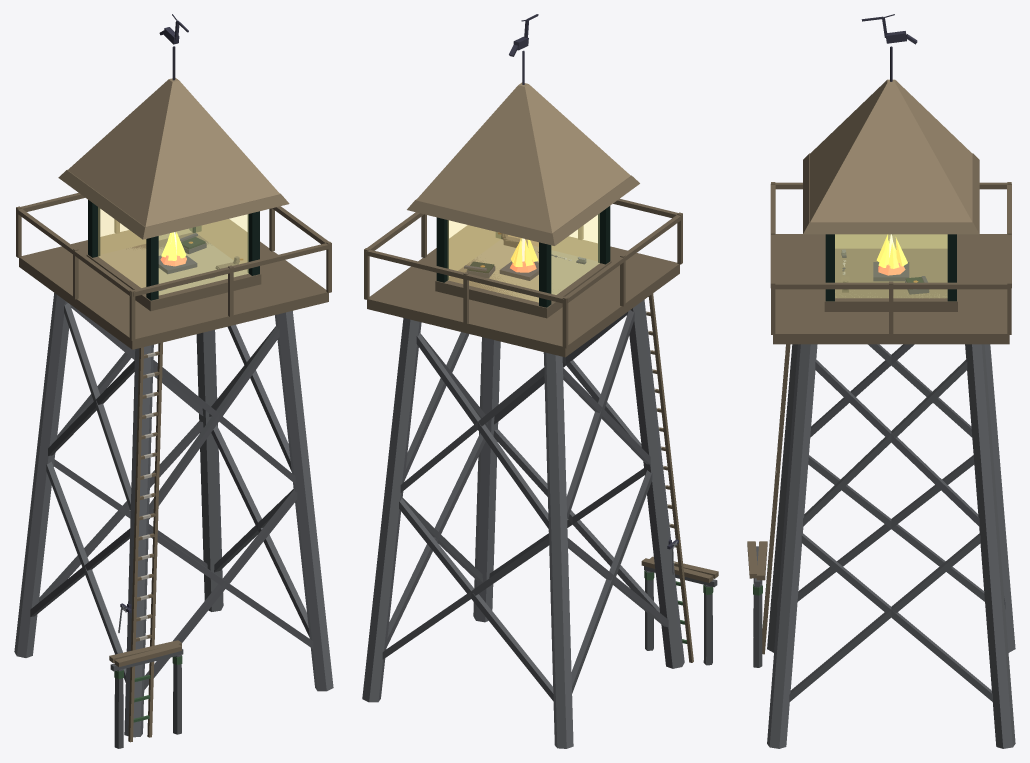
File: heron_light_near_lit.glb
3 renders of one model, left to right at view 1: azimuth 30°, elevation 25°; view 2: azimuth 150°, elevation 25°; view 3: azimuth 270°, elevation 25°, orthographic. The views are drawn at different scales.
Parts seen in each view (by area): view 1: driftwood_d40, silverfog_d45, silverfog_d55, driftwood_d20, kindle_glow_horn30, driftwood_d35, pine_d60, ink_l15, bone_d22; view 2: driftwood_d40, silverfog_d45, silverfog_d55, driftwood_d20, kindle_glow_horn30, driftwood_d35, pine_d60, ink_l15; view 3: driftwood_d40, silverfog_d45, driftwood_d20, silverfog_d55, kindle_glow_horn30, driftwood_d35, pine_d60, ink_l15, ember_glow.
Boxes of the visible parts, box(x1,y1,x2,y2) form: driftwood_d40: box(16, 192, 331, 742); silverfog_d45: box(14, 277, 333, 737); silverfog_d55: box(30, 303, 313, 748); driftwood_d20: box(68, 78, 279, 226); kindle_glow_horn30: box(98, 207, 248, 295); driftwood_d35: box(58, 170, 289, 239); pine_d60: box(88, 200, 259, 300); ink_l15: box(120, 14, 206, 613); bone_d22: box(139, 278, 207, 640); driftwood_d40: box(364, 199, 718, 662); silverfog_d45: box(362, 249, 684, 748); silverfog_d55: box(382, 310, 717, 701); driftwood_d20: box(416, 82, 630, 233); kindle_glow_horn30: box(448, 213, 599, 302); driftwood_d35: box(407, 175, 639, 245); pine_d60: box(436, 206, 610, 307); ink_l15: box(464, 14, 678, 549); driftwood_d40: box(747, 182, 1011, 654); silverfog_d45: box(767, 249, 1015, 748); driftwood_d20: box(810, 79, 972, 222); silverfog_d55: box(753, 344, 1005, 702); kindle_glow_horn30: box(835, 234, 947, 297); driftwood_d35: box(803, 153, 979, 234); pine_d60: box(825, 234, 956, 301); ink_l15: box(777, 14, 929, 518); ember_glow: box(876, 234, 907, 268).
Size of the model in its own units: 3.85 by 10.53 by 3.74.
